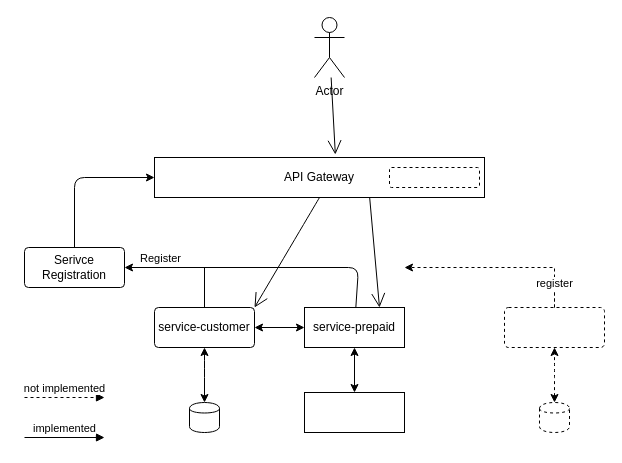
Image size: 622x463. Some labels were removed from this diagram. The shapes that lost their labels are listed below. From the top down, each one's centre as x and y in pixels, then its label:
the point at 434,177: security-filter
the point at 554,327: service-notification
the point at 354,412: 3rd-party API
